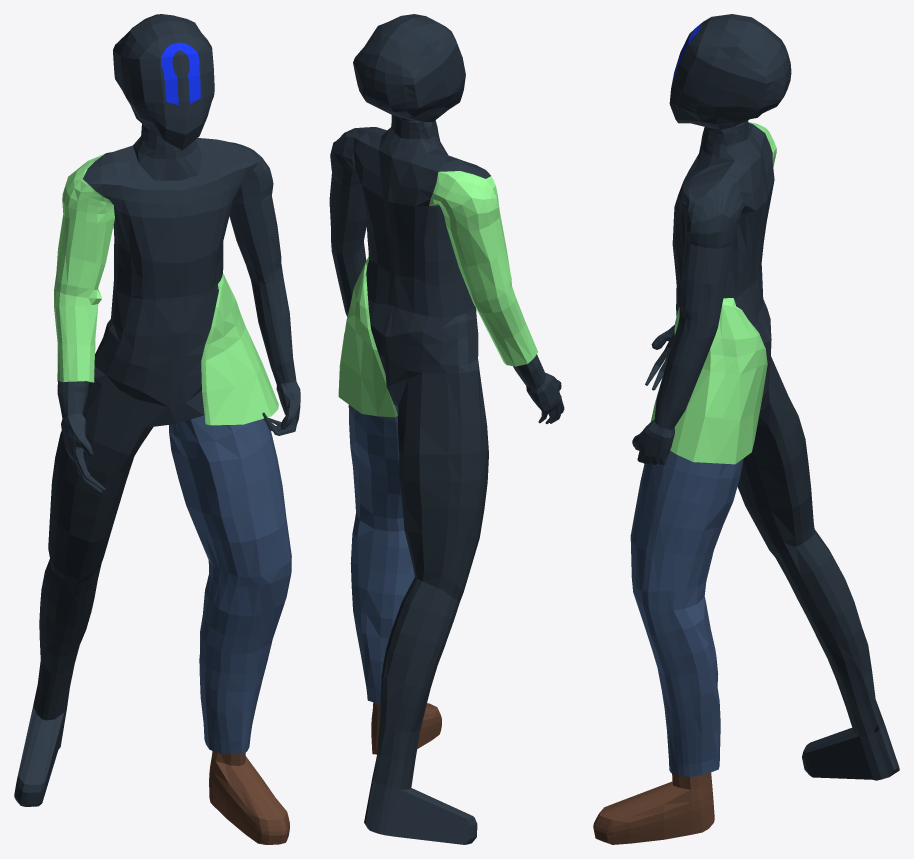
File: Mar_Stun_000006.obj
3 views of the same model, side by side, from view 1: azimuth 30°, elevation 25°; view 2: azimuth 150°, elevation 25°; view 3: azimuth 270°, elevation 25° (orthographic). The views are drawn at different scales.
Visible parts, largest first — view 1: Cube.000_Cube.001; view 2: Cube.000_Cube.001; view 3: Cube.000_Cube.001.
Part boxes in pixels (box(x1,y1,x2,y2)): Cube.000_Cube.001: box(14, 14, 300, 844); Cube.000_Cube.001: box(329, 14, 564, 844); Cube.000_Cube.001: box(593, 14, 899, 844).
Bounding box in the file's own units: 1.15 × 3.95 × 1.37.
